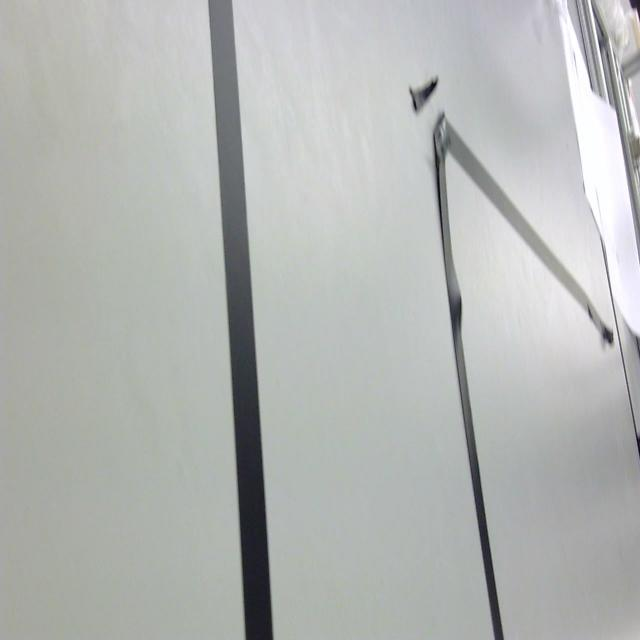tape: (434, 115, 614, 640), (208, 0, 274, 640)
